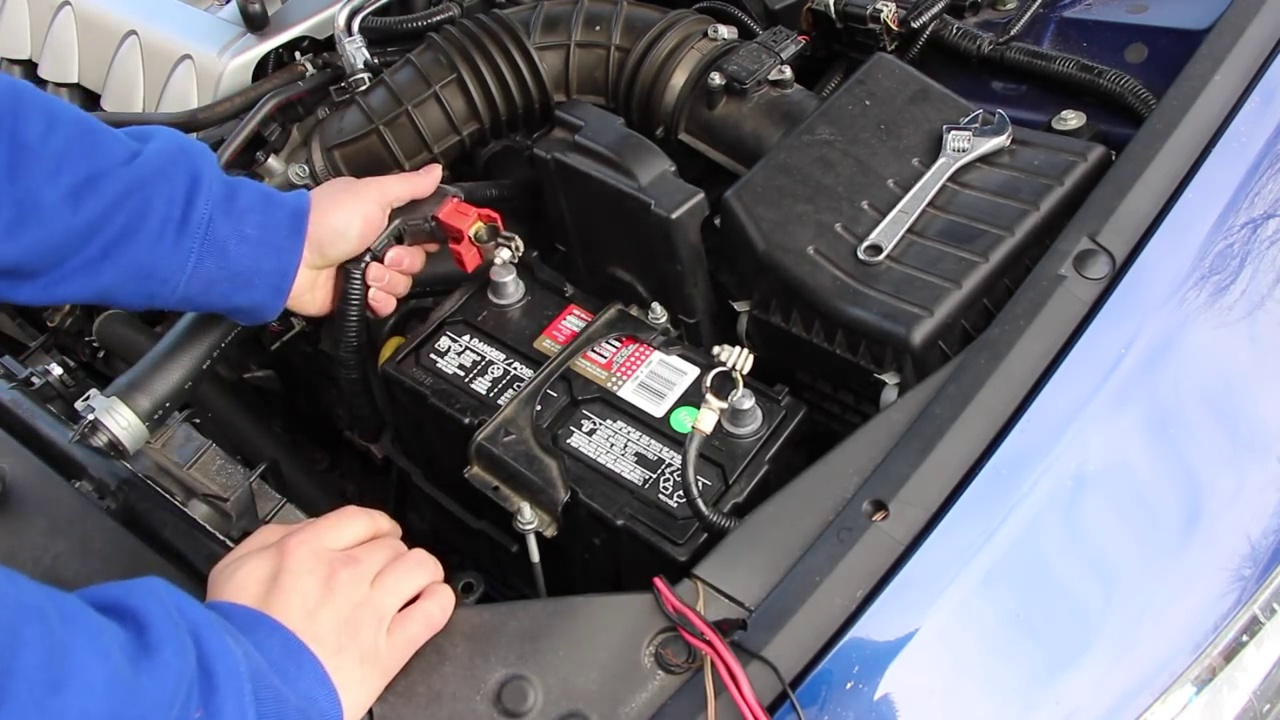battery: (363, 230, 804, 588)
neg_disconnected: (674, 336, 782, 452)
pos_disconnected: (434, 201, 542, 343)
pos_touched: (338, 148, 543, 332)
